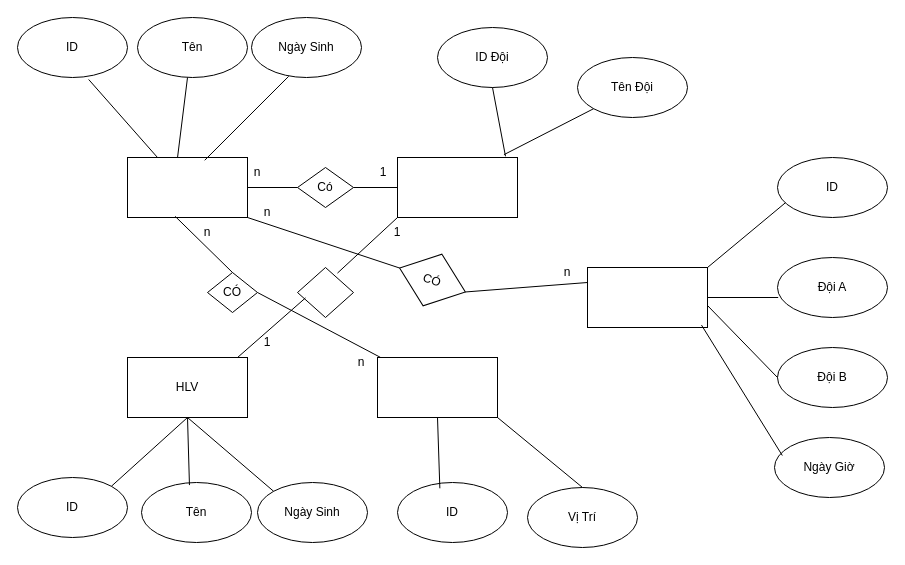
The diagram is 905 pixels wide and 565 high, and some of its shapes have lost their labels. The box of each missing label's shape, as (x1, y1, x2, y2) in pixels:
Cầu Thủ: (126, 156, 248, 218)
dẫn: (296, 266, 354, 318)
Trận Đấu: (586, 266, 708, 328)
Vị Trí CT: (376, 356, 498, 418)
Đội: (396, 156, 518, 218)
